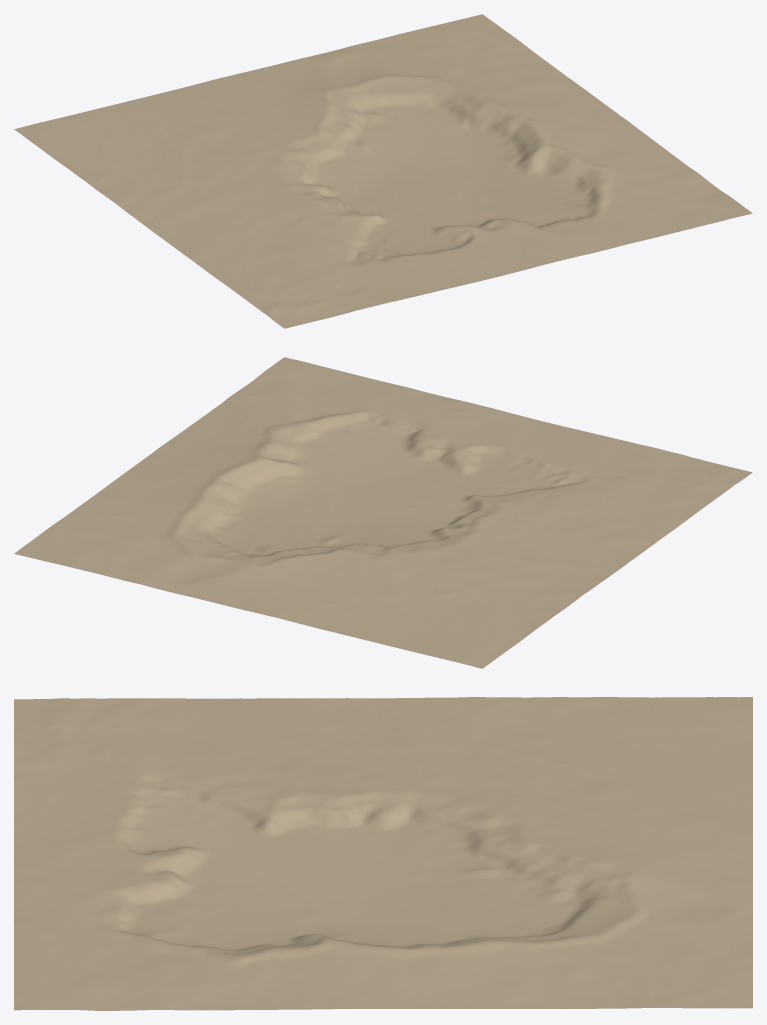
File: terrain.glb
The picture shows the model from 3 angles, top to bottom: view 1: azimuth 30°, elevation 25°; view 2: azimuth 150°, elevation 25°; view 3: azimuth 270°, elevation 25°; orthographic projection. The views are drawn at different scales.
Parts seen in each view (by area): view 1: Kilbourne Hole: metres, +X east, +Y up, +Z south; view 2: Kilbourne Hole: metres, +X east, +Y up, +Z south; view 3: Kilbourne Hole: metres, +X east, +Y up, +Z south.
Boxes of the visible parts, bbox=[...] form: Kilbourne Hole: metres, +X east, +Y up, +Z south: bbox=[14, 14, 752, 328]; Kilbourne Hole: metres, +X east, +Y up, +Z south: bbox=[14, 357, 752, 668]; Kilbourne Hole: metres, +X east, +Y up, +Z south: bbox=[14, 697, 752, 1010].
Bounding box in the file's own units: 4800 × 135 × 4800.
